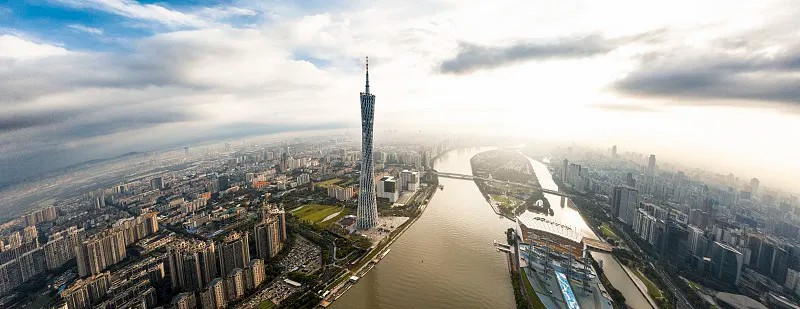Canton: (354, 55, 381, 230)
